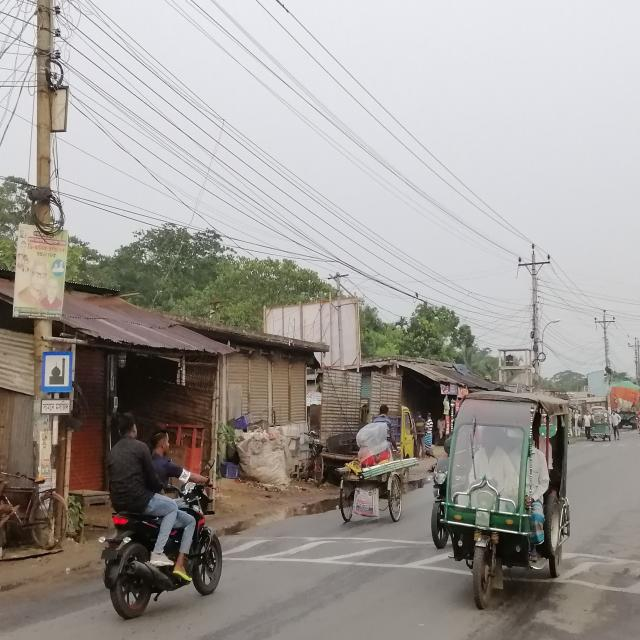Easybike: (448, 396, 577, 623)
Motorbike: (100, 479, 236, 623)
